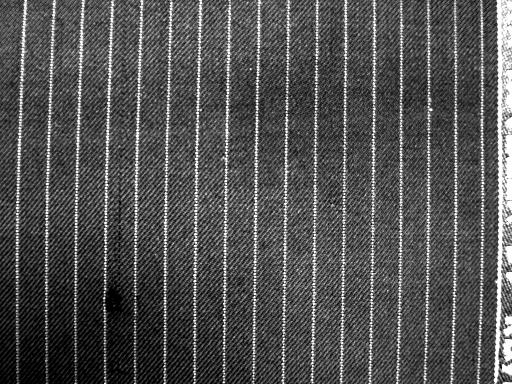fabric_hole: (88, 282, 140, 319)
